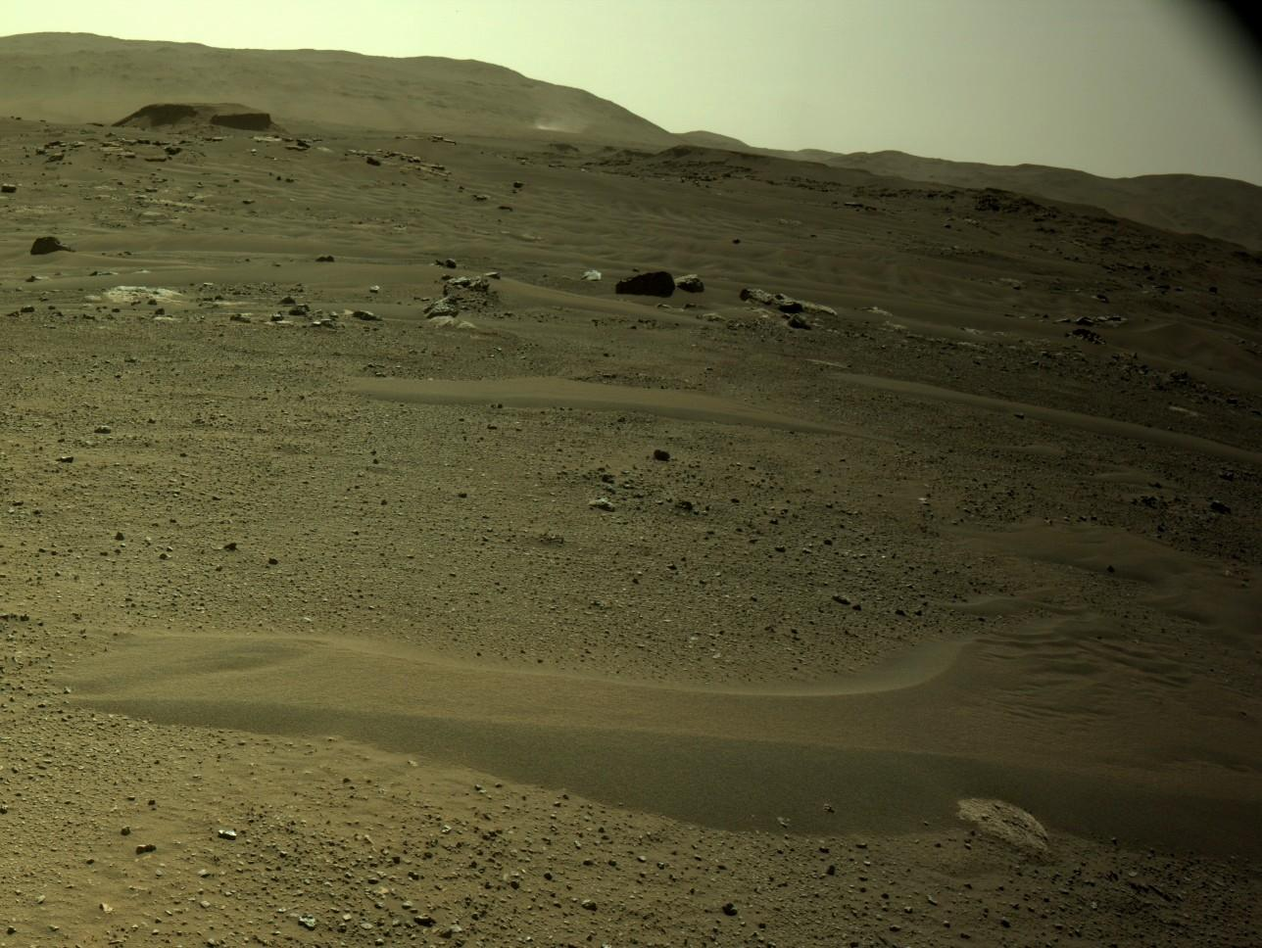bedrock: (467, 151, 1083, 217), (59, 281, 620, 347), (655, 284, 938, 346), (11, 181, 261, 222), (1162, 236, 1253, 342), (29, 131, 175, 178), (11, 115, 172, 138), (312, 132, 465, 153), (555, 275, 629, 292), (28, 227, 63, 250), (850, 309, 903, 317), (101, 146, 134, 158), (11, 267, 51, 274), (826, 307, 849, 313), (286, 188, 298, 198), (64, 267, 72, 276), (1224, 873, 1238, 878), (57, 253, 67, 257), (5, 198, 9, 204), (426, 156, 434, 159), (173, 161, 181, 163), (428, 301, 430, 305), (67, 279, 73, 280), (1188, 862, 1192, 863)
big_rock: (115, 83, 308, 138), (280, 137, 357, 153), (632, 284, 678, 299), (424, 131, 457, 144), (33, 240, 56, 254)
sand: (72, 522, 1261, 880), (68, 189, 963, 317), (5, 220, 27, 266), (1252, 360, 1260, 386), (835, 301, 854, 308), (1243, 451, 1253, 462)
soil: (4, 275, 1257, 947), (834, 199, 1261, 453), (537, 167, 732, 200), (446, 163, 523, 201), (1092, 219, 1149, 232), (894, 238, 924, 256), (188, 145, 218, 161), (266, 174, 302, 185), (1178, 419, 1201, 423), (1247, 347, 1251, 358), (233, 171, 240, 173), (27, 128, 35, 129), (990, 527, 995, 528), (64, 686, 67, 687), (210, 166, 211, 167)
